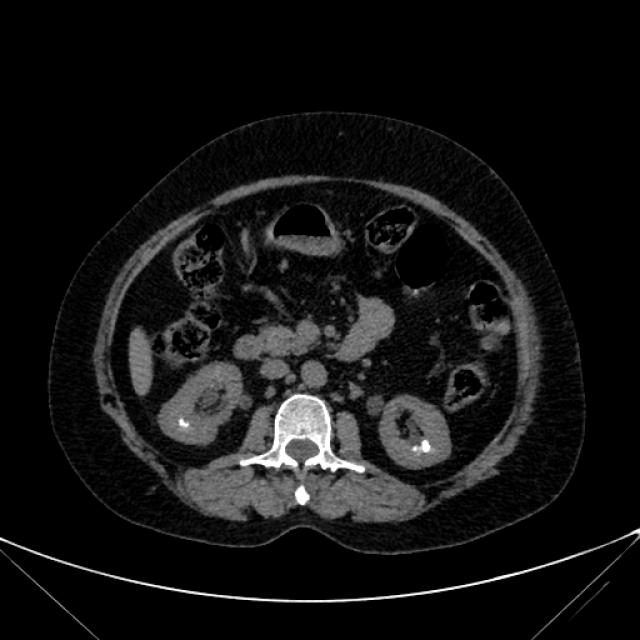kidney: (165, 368, 234, 441), (386, 406, 445, 467)
stone: (422, 440, 429, 452), (180, 419, 190, 427), (413, 446, 418, 452)
